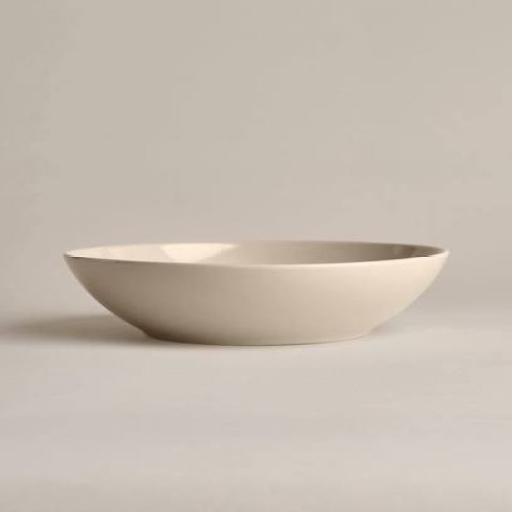Bowl: (65, 239, 448, 346)
